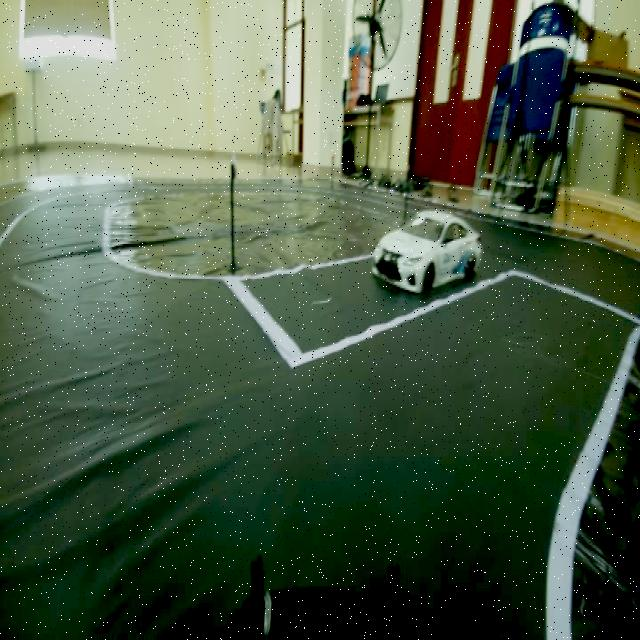car: (362, 189, 480, 293)
